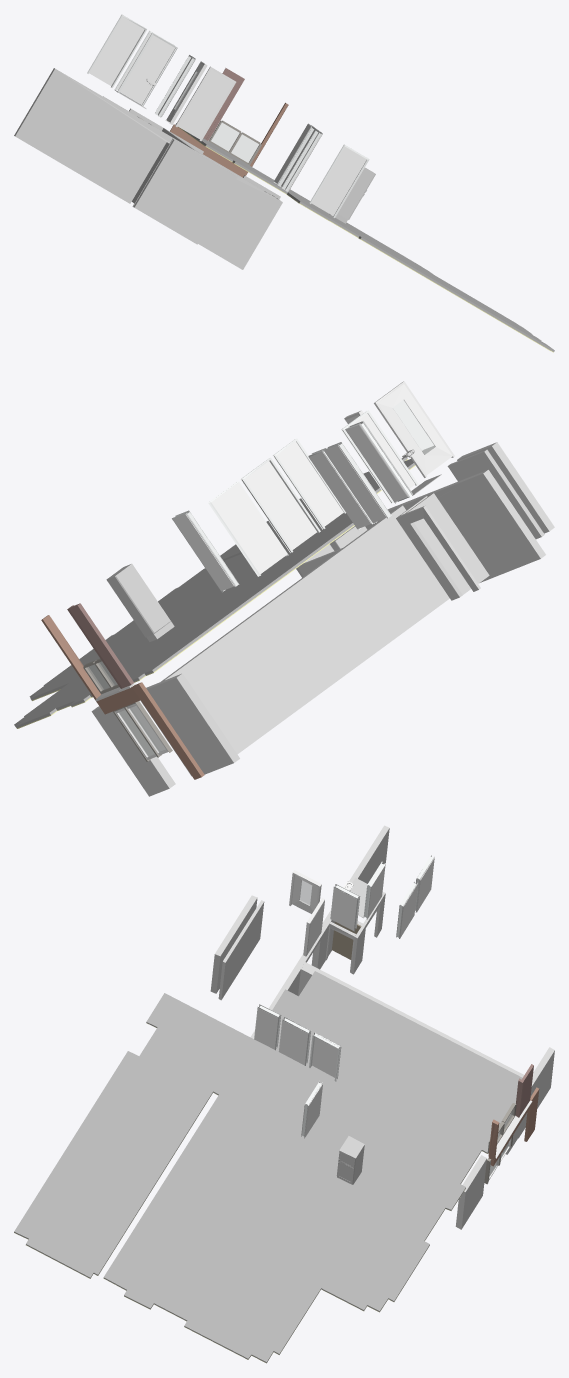
The picture shows the model from 3 angles, top to bottom: view 1: azimuth 30°, elevation 25°; view 2: azimuth 150°, elevation 25°; view 3: azimuth 270°, elevation 25°; orthographic projection. The views are drawn at different scales.
Visible parts, largest first — view 1: mesh; view 2: mesh; view 3: mesh.
Part boxes in pixels (<box>): mesh: <box>14,14,554,352</box>; mesh: <box>14,381,554,796</box>; mesh: <box>14,825,554,1363</box>.
Bounding box in the file's own units: 17.77 × 12.54 × 17.7.
